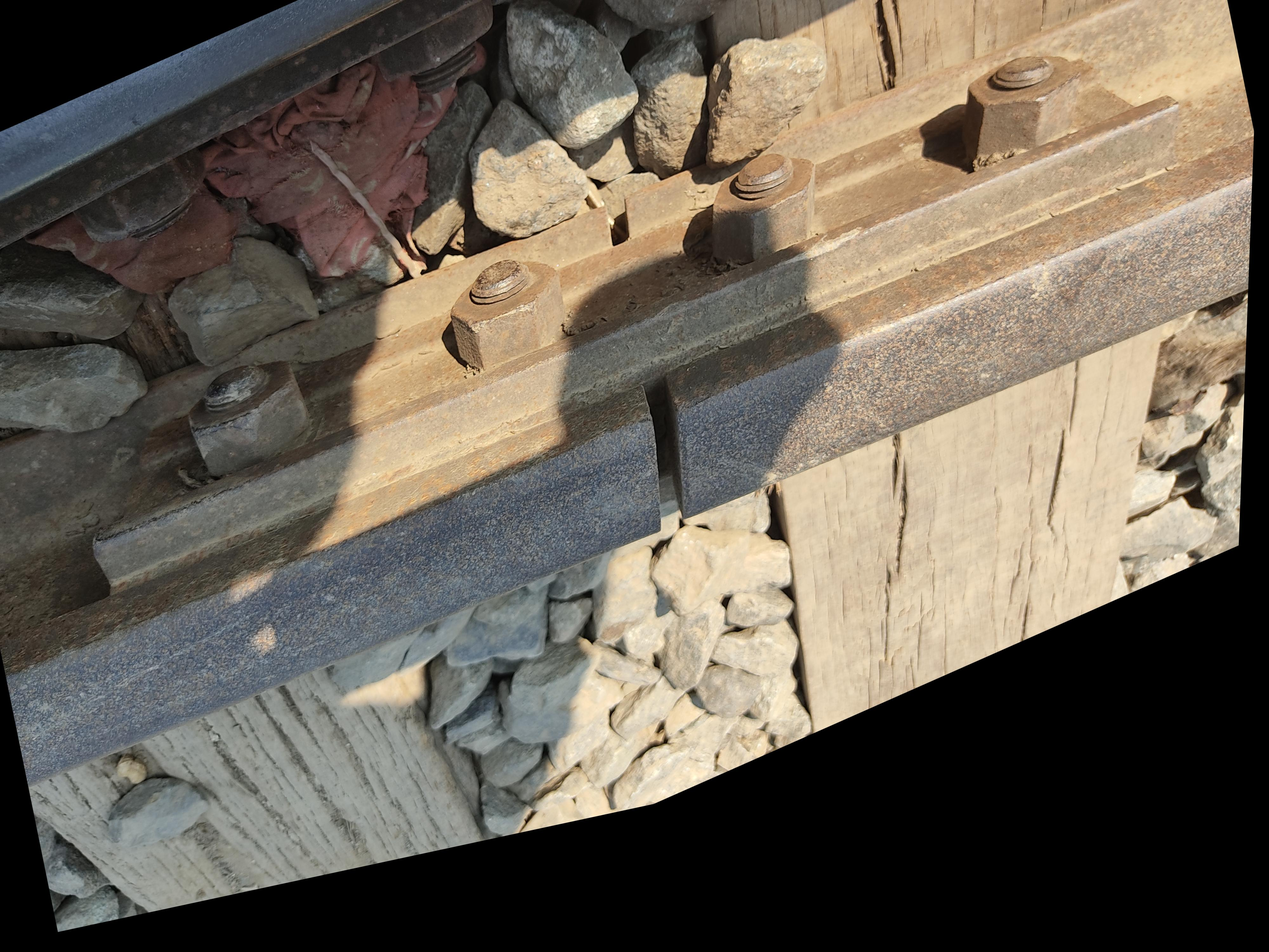person: (335, 698, 446, 828), (335, 614, 393, 677)
